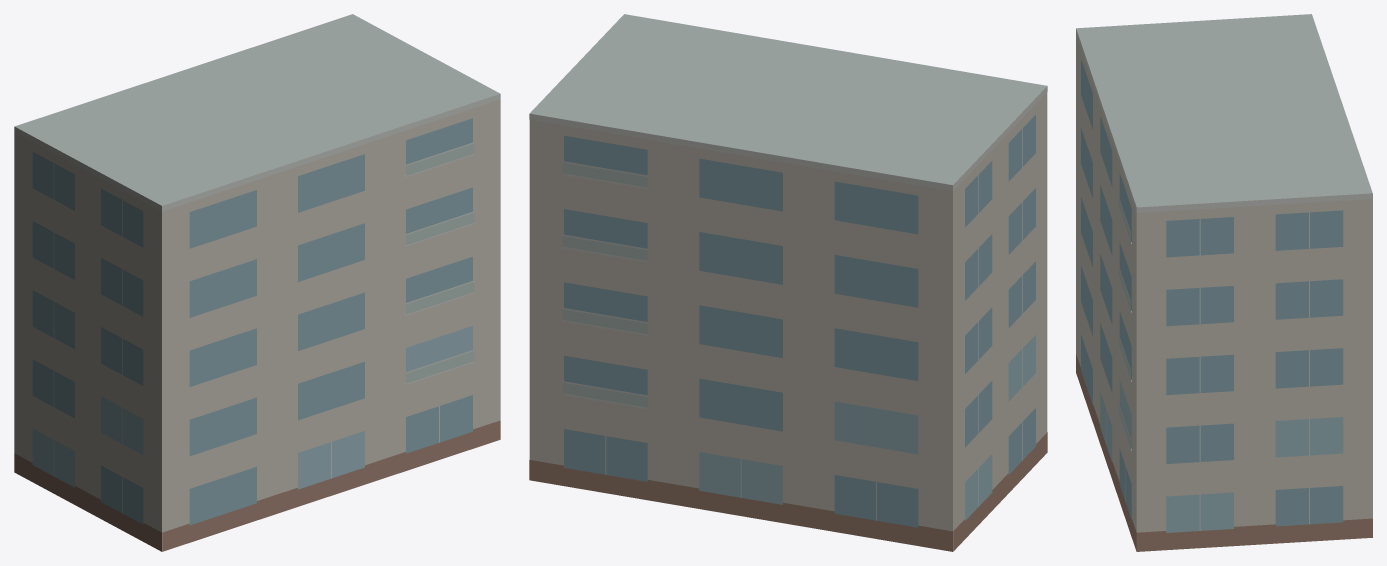
The model's file is survey-upis-32577308.glb.
3 views of the same model, side by side, from view 1: azimuth 30°, elevation 25°; view 2: azimuth 150°, elevation 25°; view 3: azimuth 270°, elevation 25° (orthographic). The views are drawn at different scales.
Parts seen in each view (by area): view 1: survey-upis-32577308.tmp; view 2: survey-upis-32577308.tmp; view 3: survey-upis-32577308.tmp.
Boxes of the visible parts, <box> form: survey-upis-32577308.tmp: <box>14,14,500,551</box>; survey-upis-32577308.tmp: <box>529,14,1047,551</box>; survey-upis-32577308.tmp: <box>1076,14,1372,551</box>.
Size of the model in its own units: 18.08 by 15 by 11.72.
